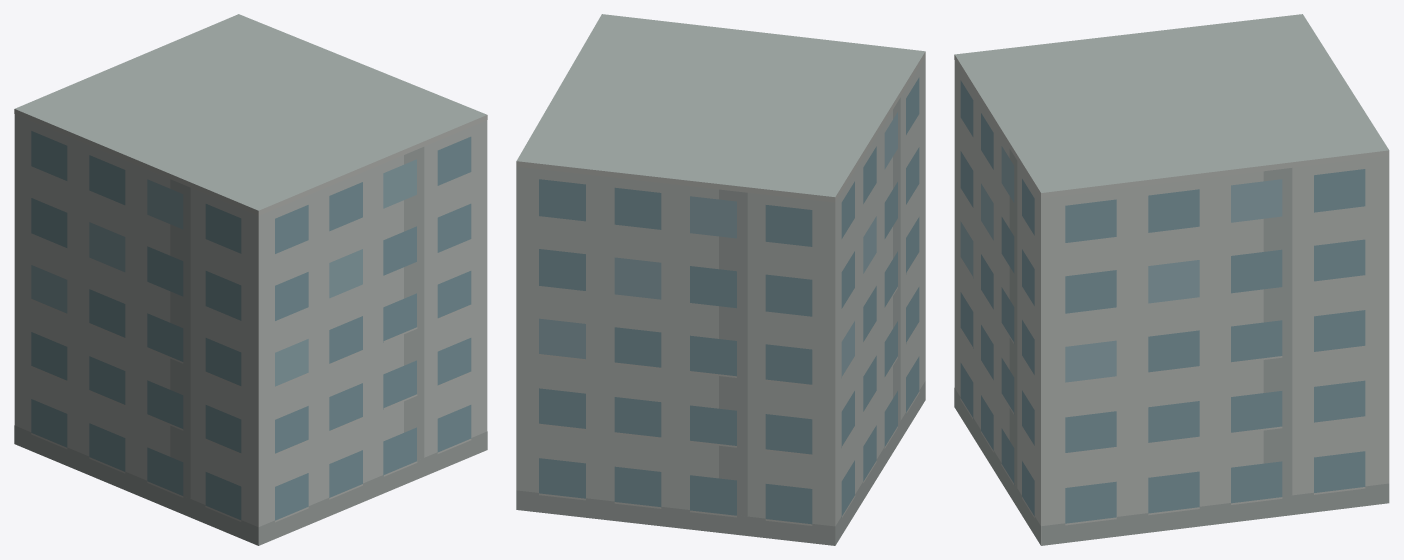
The model's file is survey-upis-32611437.glb.
3 views of the same model, side by side, from view 1: azimuth 30°, elevation 25°; view 2: azimuth 150°, elevation 25°; view 3: azimuth 270°, elevation 25° (orthographic). The views are drawn at different scales.
Visible parts, largest first — view 1: survey-upis-32611437.tmp; view 2: survey-upis-32611437.tmp; view 3: survey-upis-32611437.tmp.
Part boxes in pixels (x1=…): survey-upis-32611437.tmp: x1=14, y1=14, x2=487, y2=545; survey-upis-32611437.tmp: x1=516, y1=14, x2=925, y2=545; survey-upis-32611437.tmp: x1=954, y1=14, x2=1389, y2=545.
Bounding box in the file's own units: 16.88 × 15.5 × 17.32.
